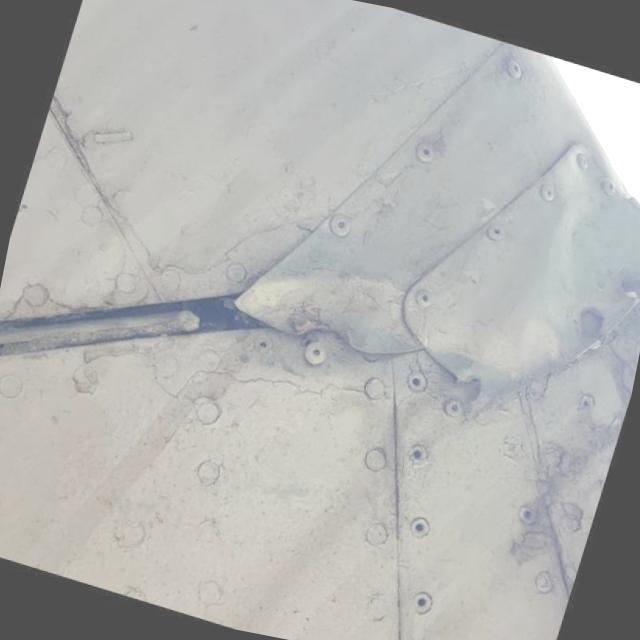dent: (525, 168, 627, 345)
